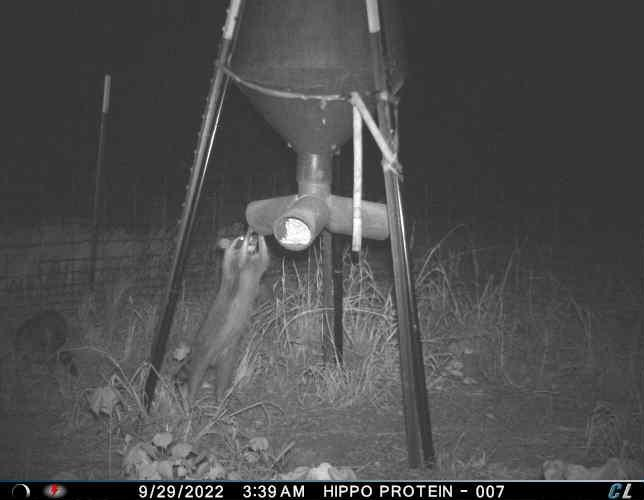Raccoon: (189, 231, 273, 414), (15, 310, 81, 375)
